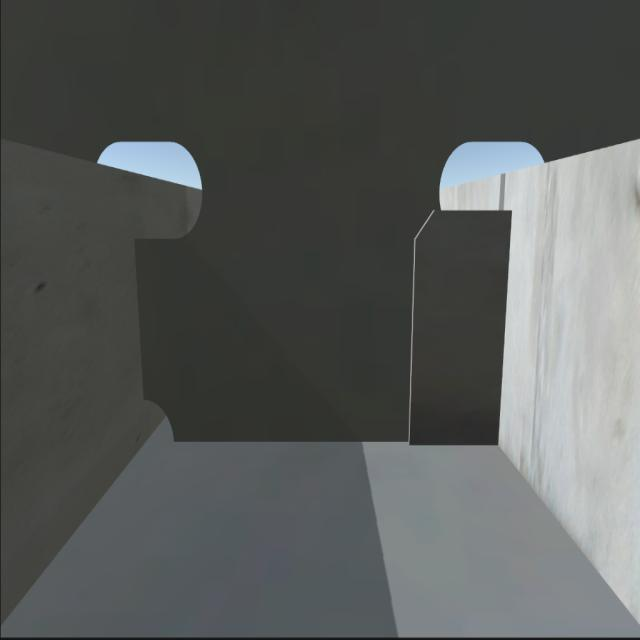fillet_hole: (141, 393, 181, 453)
fillet_yong_jeop_jang: (186, 430, 499, 451)
longi_yong_jeop_jang: (497, 205, 512, 448), (135, 248, 152, 385)
plate_CP01: (411, 210, 507, 441)
